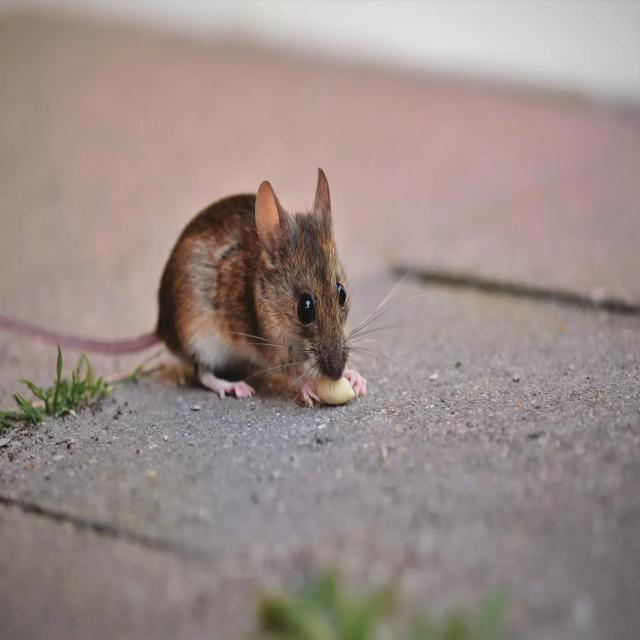rat: (2, 159, 404, 416)
